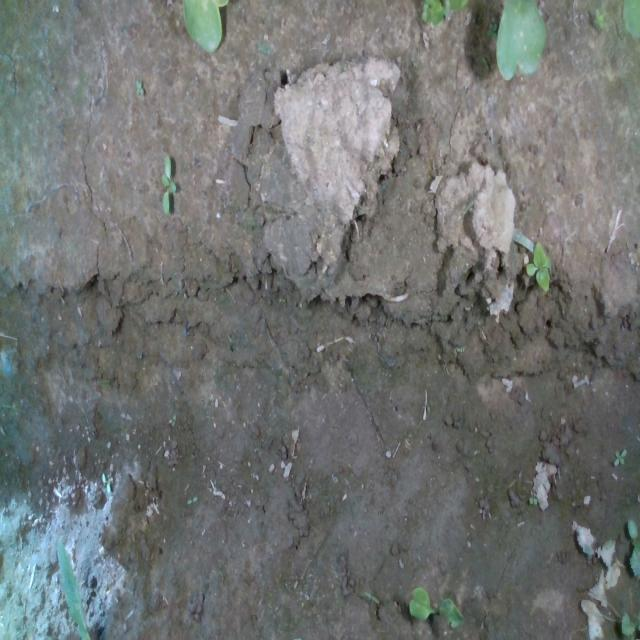weed: (525, 236, 553, 295), (160, 152, 176, 214), (613, 446, 627, 467), (134, 76, 144, 97), (527, 494, 538, 506)
